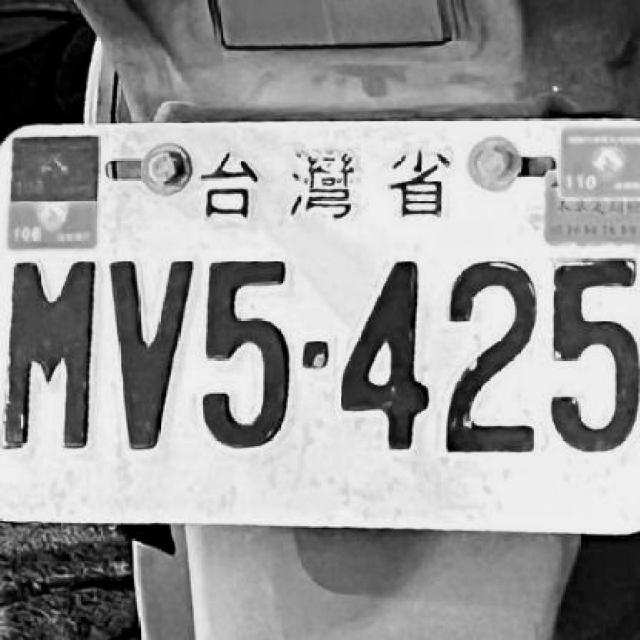-: (300, 337, 331, 372)
2: (443, 256, 542, 458)
5: (544, 257, 640, 454), (201, 258, 297, 451)
K: (338, 246, 429, 454)
M: (6, 255, 100, 451)
V: (108, 254, 195, 452)
